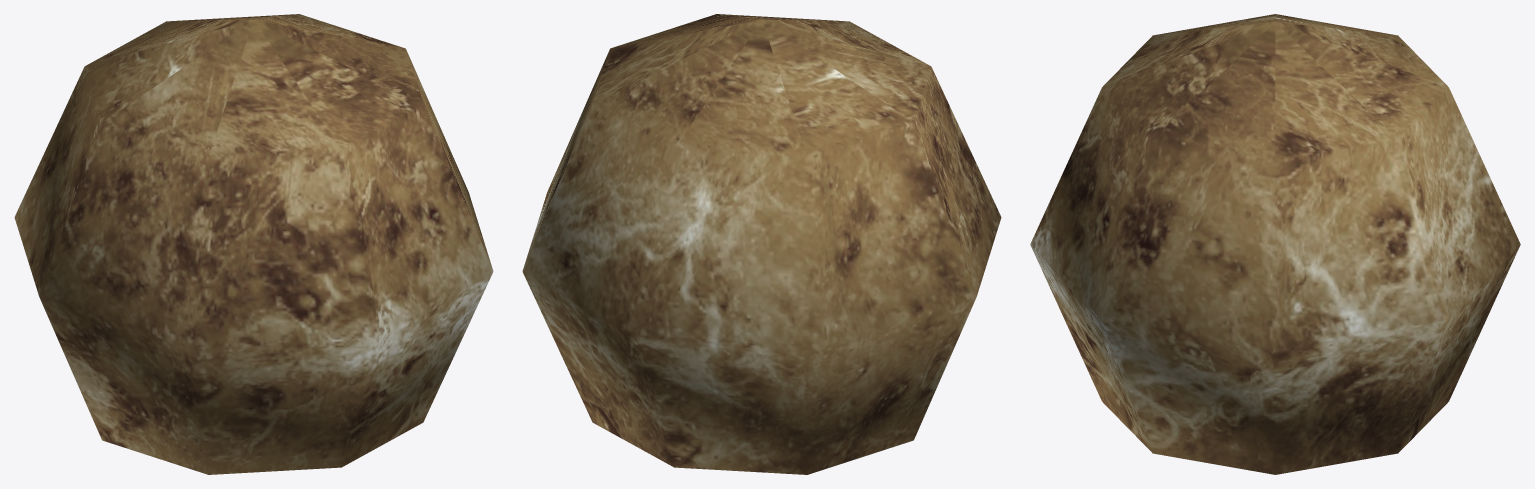
Rendered from rock-lowpoly.obj.
The picture shows the model from 3 angles, left to right: view 1: azimuth 30°, elevation 25°; view 2: azimuth 150°, elevation 25°; view 3: azimuth 270°, elevation 25°; orthographic projection.
Size of the model in its own units: 2 by 2 by 2.
Materials: 1 (1 with a texture image).
